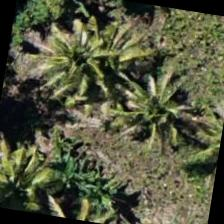Kelapa_Sawit: (90, 42, 193, 145), (118, 66, 220, 168), (0, 132, 69, 218)
